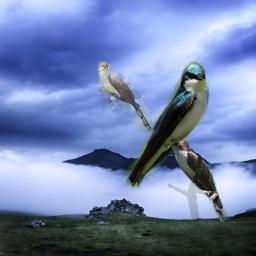Cuckoo: (168, 140, 230, 222), (98, 61, 152, 131)
Swallow: (124, 61, 210, 192)
